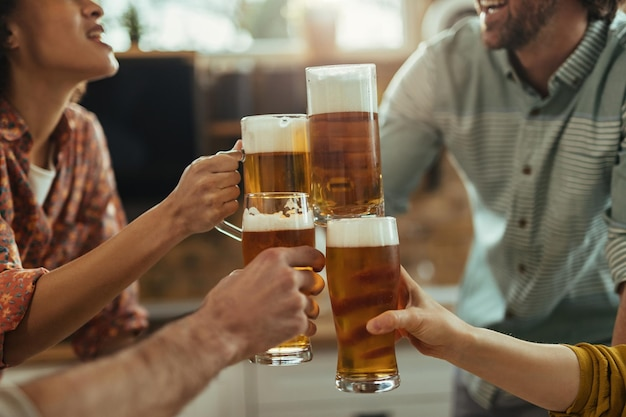alcohol: (301, 65, 390, 226), (241, 191, 321, 365), (326, 217, 403, 394), (218, 114, 311, 243)
